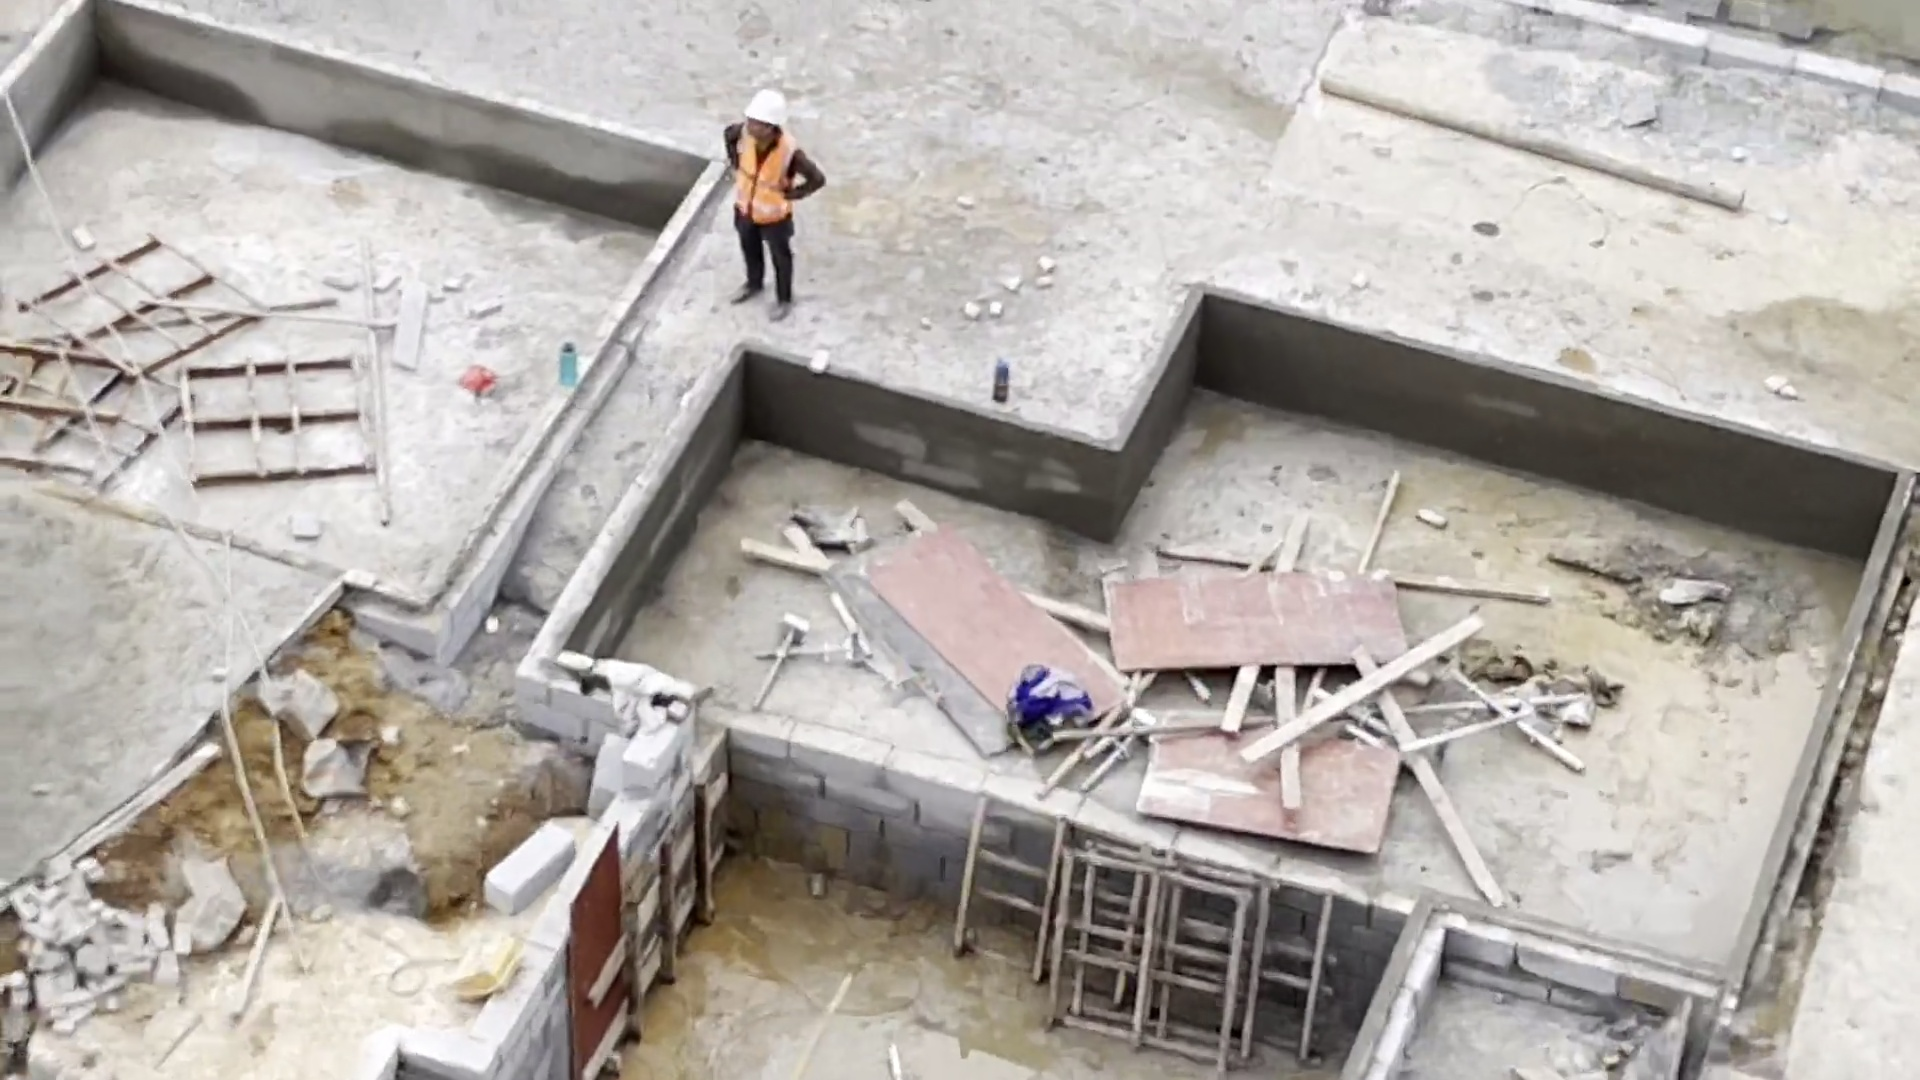helmet: (745, 85, 788, 130)
person: (711, 85, 829, 317)
vest: (724, 134, 808, 223)
